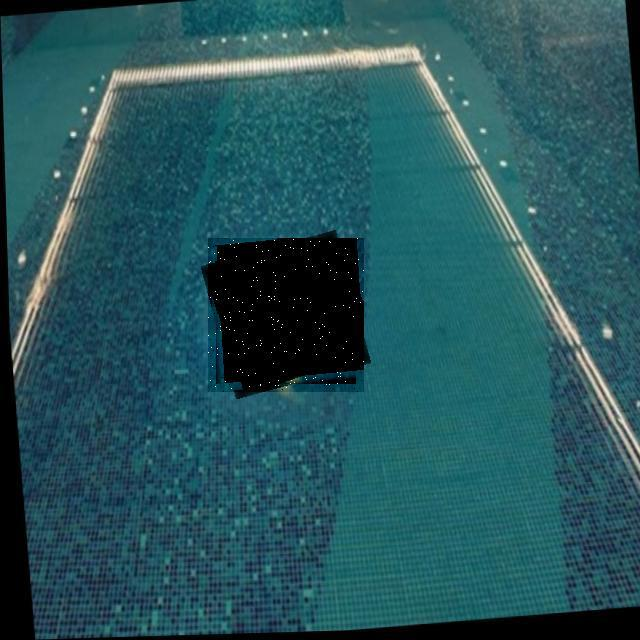swimming: (208, 238, 364, 392)
